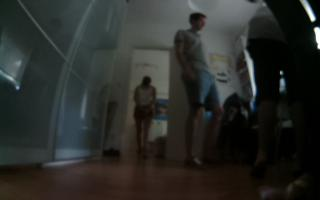person: (264, 1, 320, 200), (170, 9, 227, 171), (242, 5, 288, 194), (131, 72, 160, 166)
